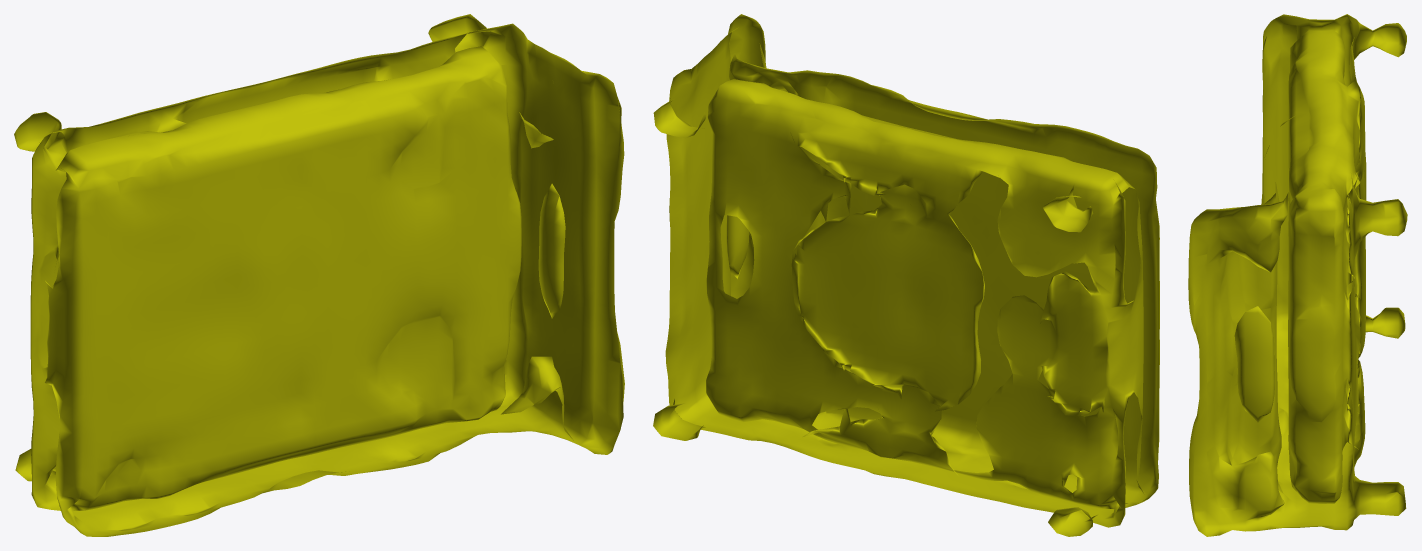
3 renders of one model, left to right at view 1: azimuth 30°, elevation 25°; view 2: azimuth 150°, elevation 25°; view 3: azimuth 270°, elevation 25°, orthographic. The views are drawn at different scales.
Parts seen in each view (by area): view 1: world; view 2: world; view 3: world.
Boxes of the visible parts, x1,y1,x2,y2 form: world: [14, 14, 624, 536]; world: [653, 14, 1159, 536]; world: [1188, 14, 1407, 536].
Bounding box in the file's own units: 39.78 × 29.25 × 17.18.
